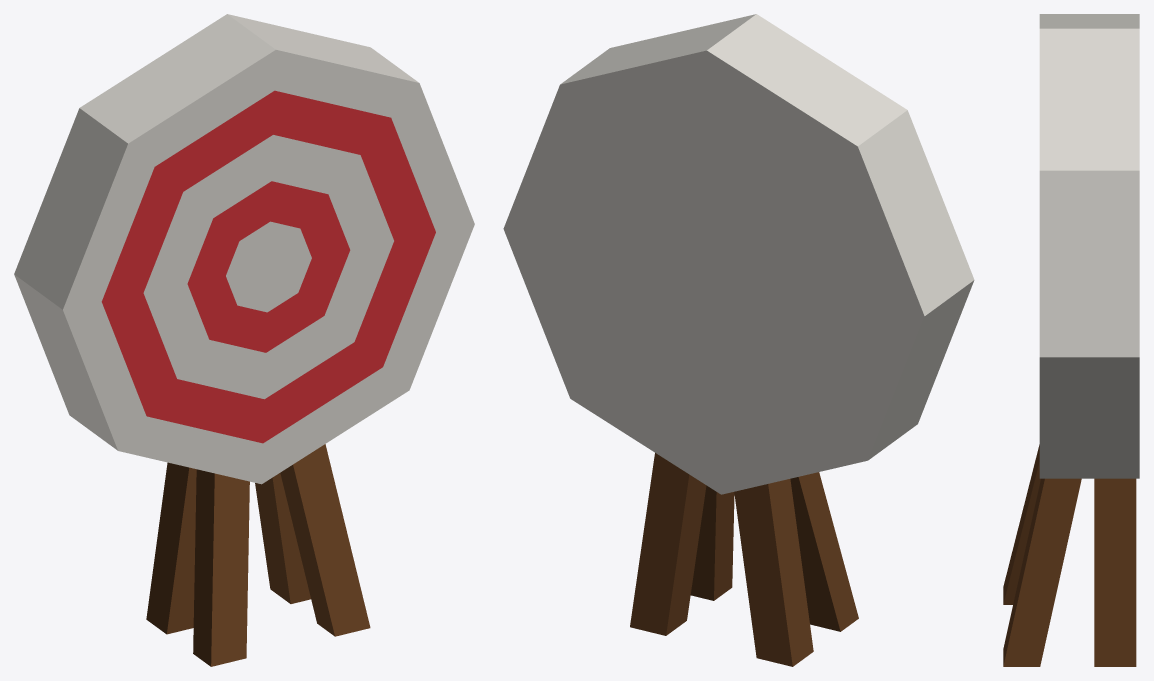
Rendered from target.glb.
3 renders of one model, left to right at view 1: azimuth 30°, elevation 25°; view 2: azimuth 150°, elevation 25°; view 3: azimuth 270°, elevation 25°, orthographic. The views are drawn at different scales.
Visible parts, largest first — view 1: Target; view 2: Target; view 3: Target.
Boxes of the visible parts, left/top/right/bottom form: Target: left=14, top=14, right=474, bottom=666; Target: left=503, top=14, right=974, bottom=666; Target: left=1003, top=14, right=1139, bottom=666.
Bounding box in the file's own units: 0.5264 × 0.7132 × 0.147.
